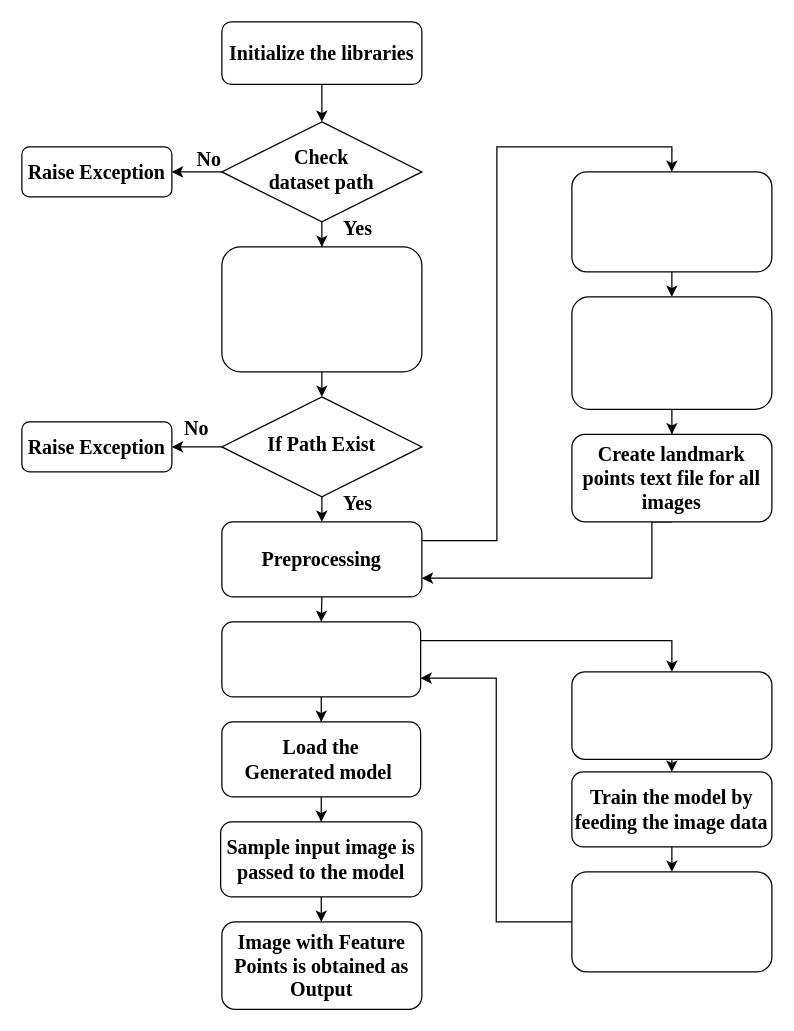
The diagram is 794 pixels wide and 1031 high, and some of its shapes have lost their labels. Each missing label, with the box of its shape:
Compile the model using Adam Optimizer and save the model: (571, 871, 772, 972)
Crop the Ear Image and Apply 5 Image Transformations on the Cropped Image: (571, 296, 772, 409)
Crop the unconstrained image using landmark points: (571, 171, 772, 272)
Load the dataset containing unconstrained images and landmark text files: (221, 246, 422, 372)
Load the ear images and split into train and test: (571, 671, 772, 759)
Traning and Model Genaration: (221, 621, 421, 697)
